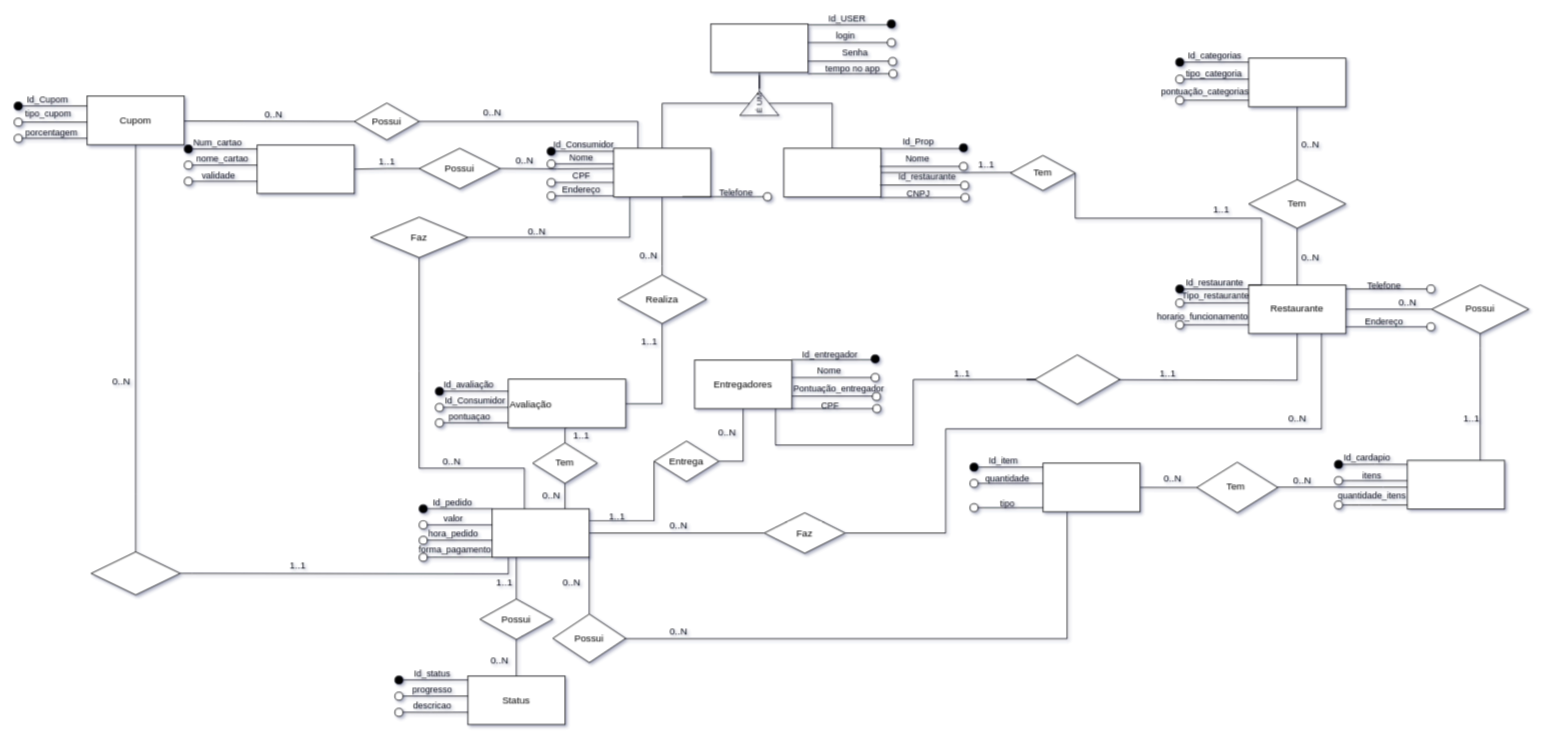
The diagram is 1548 pixels wide and 744 high, and some of its shapes have lost their labels. Here are the shapes that lost their labels. From the top down, the centre of each, then its label:
At pixel 759 47: "Usuarios".
At pixel 1297 82: "Categorias".
At pixel 305 169: "Cartão".
At pixel 662 172: "Consumidor".
At pixel 832 172: "Propietario".
At pixel 1077 379: "Contata".
At pixel 1091 487: "Item".
At pixel 1456 484: "Cardapio".
At pixel 540 532: "Pedido".
At pixel 135 573: "é_utilizado_em".
